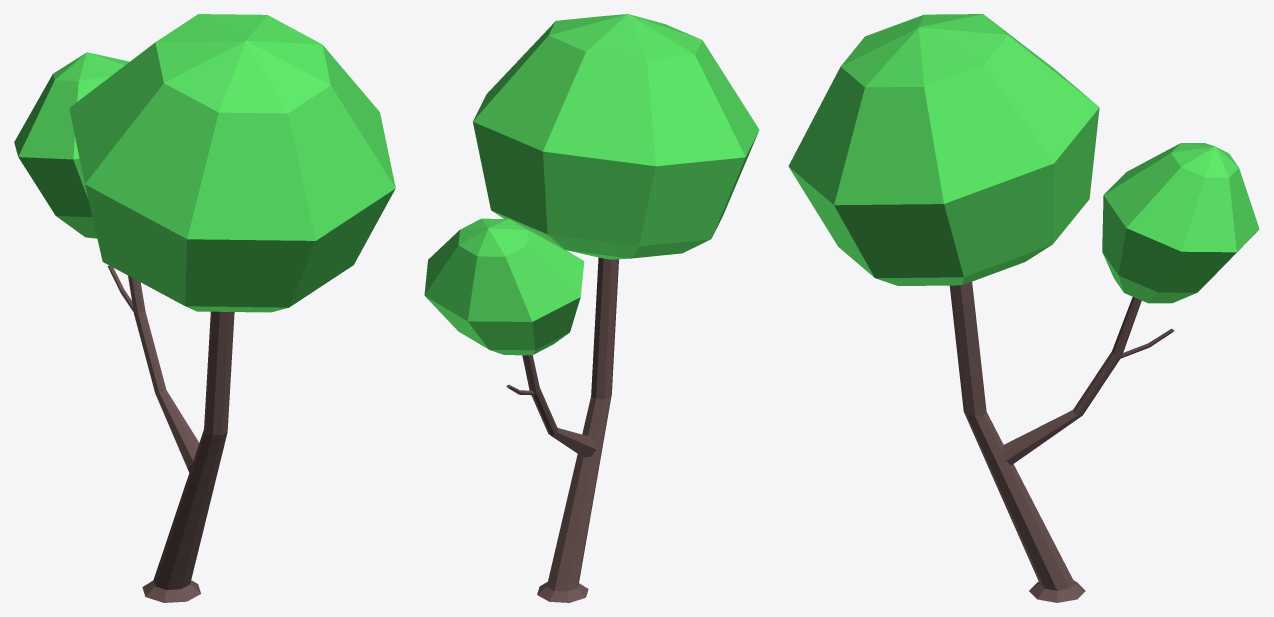
File: Tree1.fbx
3 renders of one model, left to right at view 1: azimuth 30°, elevation 25°; view 2: azimuth 150°, elevation 25°; view 3: azimuth 270°, elevation 25°, orthographic. The views are drawn at different scales.
Parts seen in each view (by area): view 1: Cylinder; view 2: Cylinder; view 3: Cylinder.
Boxes of the visible parts, <box> form: Cylinder: <box>14,14,395,602</box>; Cylinder: <box>424,14,759,602</box>; Cylinder: <box>788,14,1259,602</box>.
Size of the model in its own units: 714 by 1397 by 1058.
